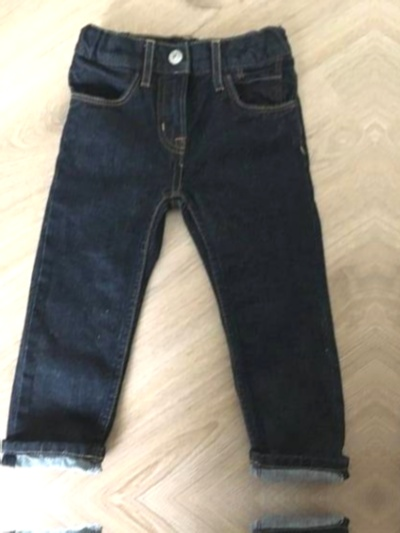Pants: (3, 9, 359, 482), (4, 517, 360, 533), (392, 8, 400, 481), (393, 516, 400, 533)
